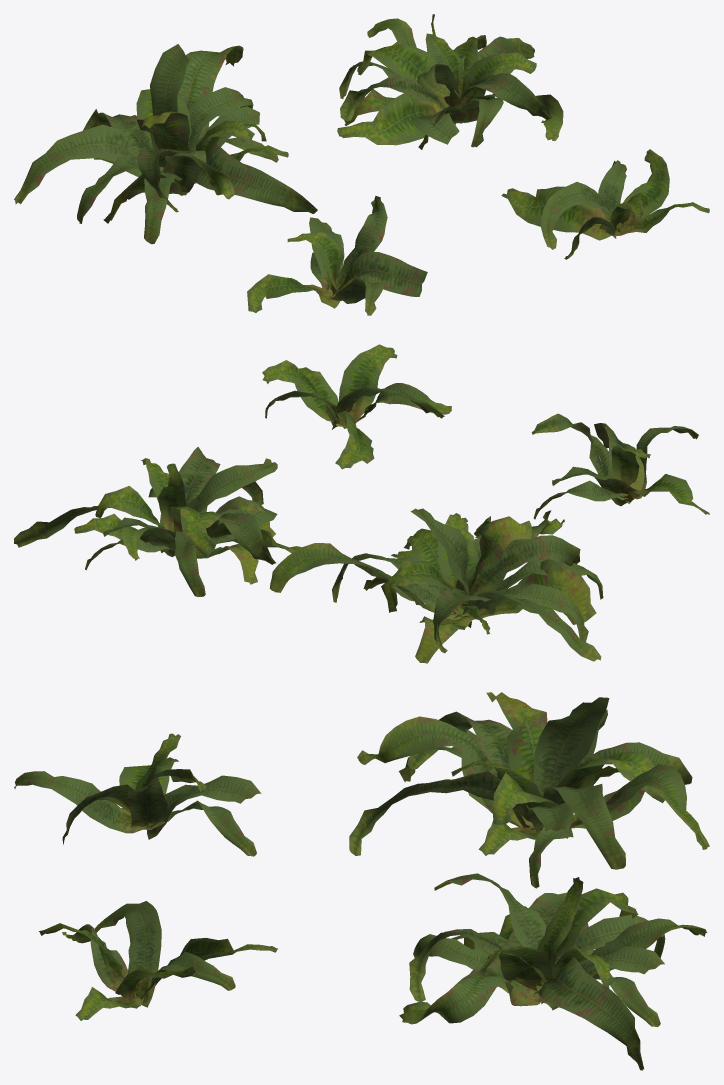
Rendered from fern_02.glb.
3 views of the same model, one above another, from view 1: azimuth 30°, elevation 25°; view 2: azimuth 150°, elevation 25°; view 3: azimuth 270°, elevation 25° (orthographic). The views are drawn at different scales.
Parts seen in each view (by area): view 1: fern_02_b, fern_02_c, fern_02_d, fern_02_a; view 2: fern_02_b, fern_02_c, fern_02_d, fern_02_a; view 3: fern_02_b, fern_02_c, fern_02_a, fern_02_d.
Boxes of the visible parts, bbox=[...] form: fern_02_b: bbox=[14, 44, 317, 244]; fern_02_c: bbox=[337, 14, 563, 149]; fern_02_d: bbox=[501, 149, 709, 259]; fern_02_a: bbox=[247, 196, 427, 315]; fern_02_b: bbox=[269, 508, 603, 663]; fern_02_c: bbox=[14, 447, 301, 596]; fern_02_d: bbox=[262, 344, 451, 469]; fern_02_a: bbox=[531, 413, 709, 519]; fern_02_b: bbox=[349, 692, 709, 888]; fern_02_c: bbox=[399, 873, 707, 1070]; fern_02_a: bbox=[14, 733, 261, 856]; fern_02_d: bbox=[39, 901, 277, 1020].
Size of the model in its own units: 1.97 by 0.4277 by 1.72.
1 material, 1 textured.
